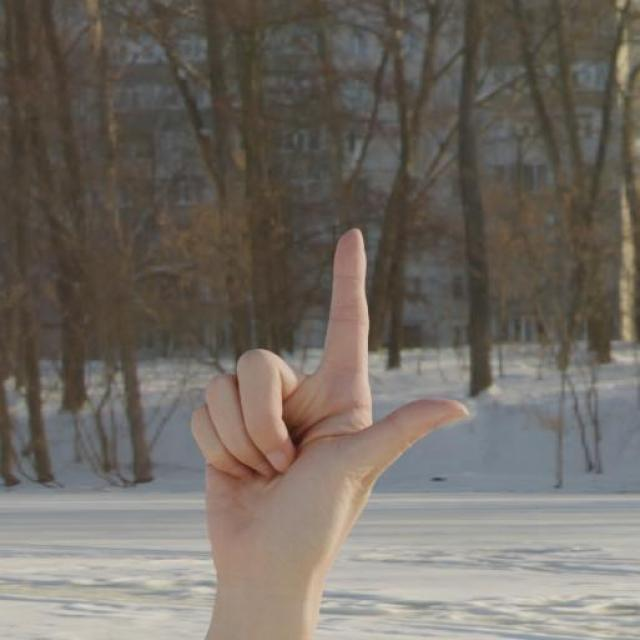L: (190, 223, 474, 535)
